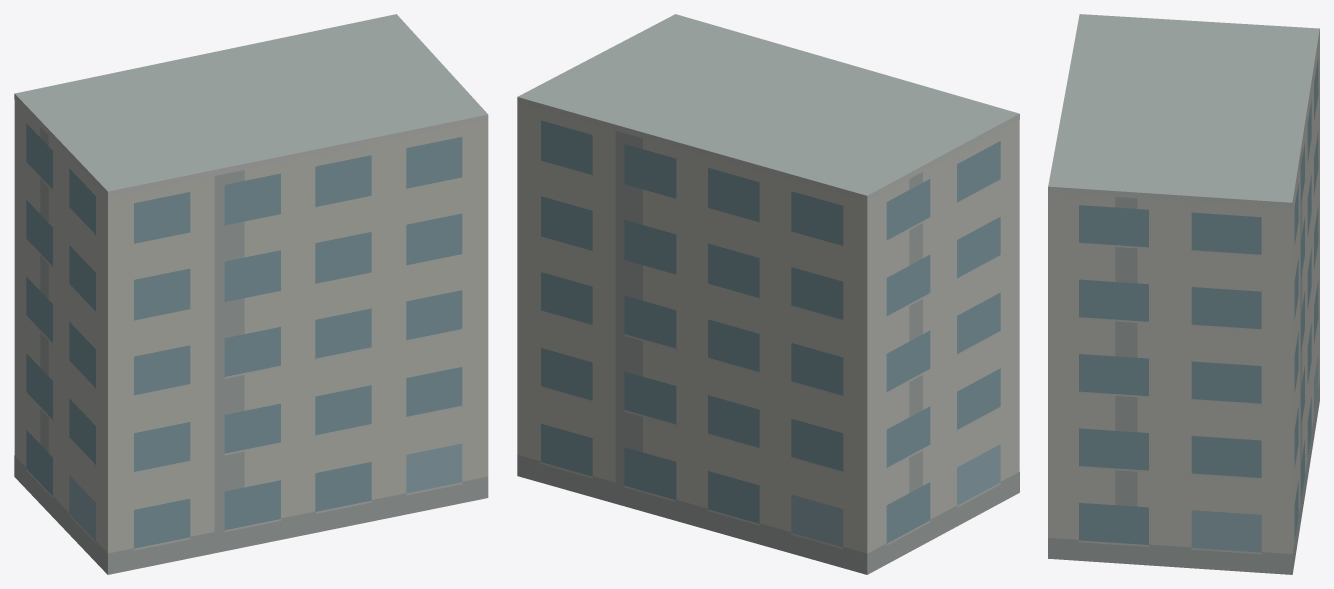
File: survey-upis-32772031.glb
The picture shows the model from 3 angles, left to right: view 1: azimuth 30°, elevation 25°; view 2: azimuth 150°, elevation 25°; view 3: azimuth 270°, elevation 25°; orthographic projection. The views are drawn at different scales.
Parts seen in each view (by area): view 1: survey-upis-32772031.tmp; view 2: survey-upis-32772031.tmp; view 3: survey-upis-32772031.tmp.
Boxes of the visible parts, box(x1,y1,x2,y2) form: survey-upis-32772031.tmp: box(14, 14, 488, 574); survey-upis-32772031.tmp: box(517, 14, 1019, 574); survey-upis-32772031.tmp: box(1048, 14, 1319, 574).
Size of the model in its own units: 16.6 by 15.25 by 10.1.
